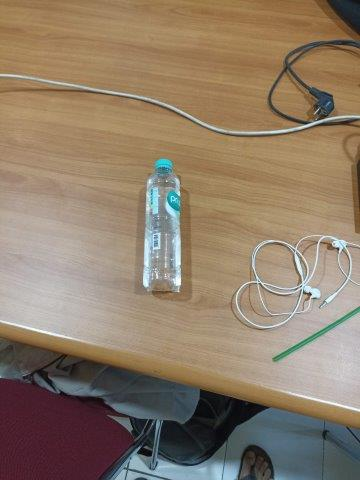botolplastik: (142, 158, 181, 292)
